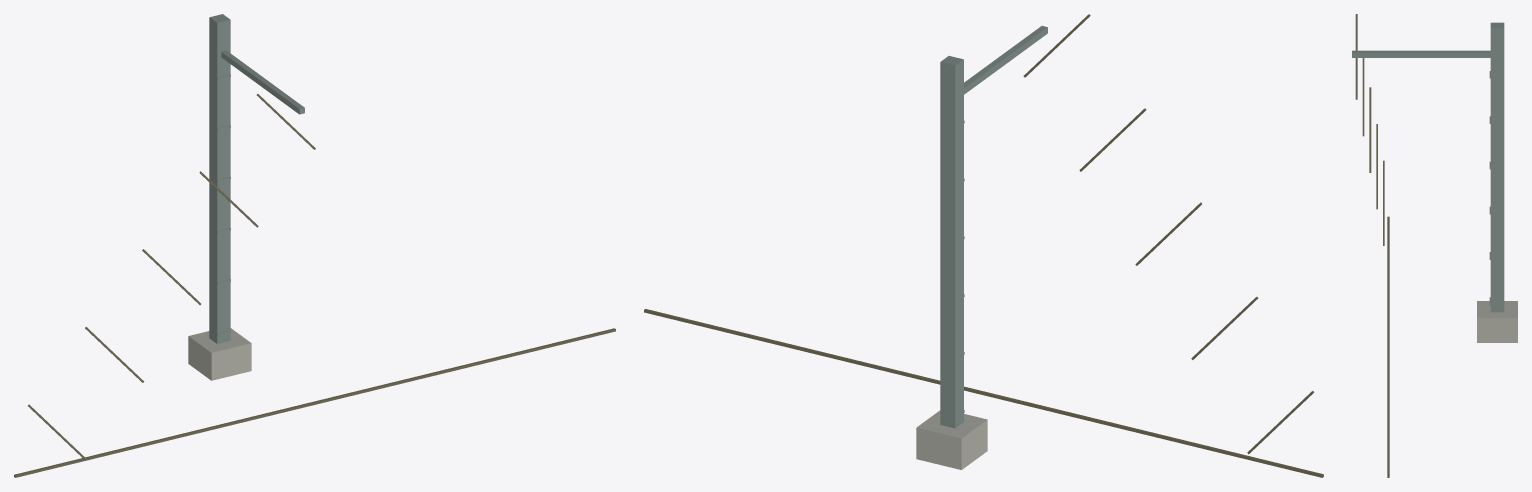
File: SM_CatenariaCaida_v0_Colgando_LOD0.fbx
3 renders of one model, left to right at view 1: azimuth 30°, elevation 25°; view 2: azimuth 150°, elevation 25°; view 3: azimuth 270°, elevation 25°, orthographic. The views are drawn at different scales.
Parts seen in each view (by area): view 1: SM_aqui_paso_algo_v10_LOD0; view 2: SM_aqui_paso_algo_v10_LOD0; view 3: SM_aqui_paso_algo_v10_LOD0.
Part boxes in pixels (x1=…): SM_aqui_paso_algo_v10_LOD0: x1=14, y1=14, x2=615, y2=477; SM_aqui_paso_algo_v10_LOD0: x1=644, y1=14, x2=1323, y2=477; SM_aqui_paso_algo_v10_LOD0: x1=1352, y1=14, x2=1517, y2=477.
Bounding box in the file's own units: 13.5 × 7.5 × 3.65.
